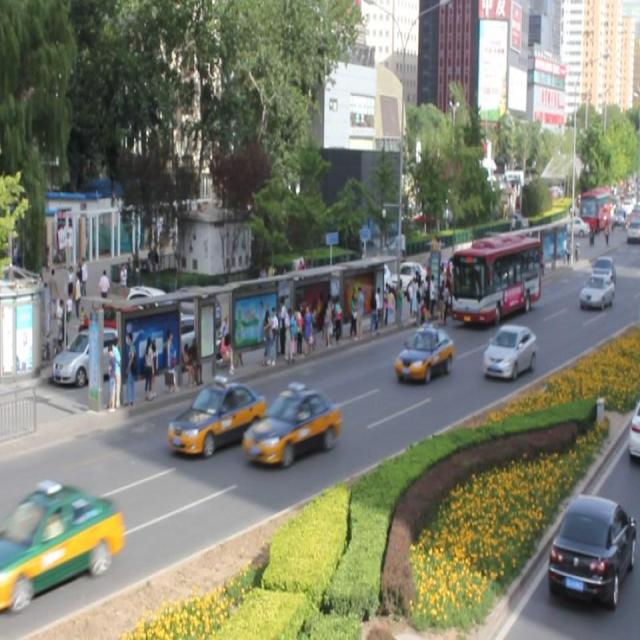car: (0, 480, 124, 596), (242, 386, 339, 468), (166, 378, 264, 453), (394, 324, 454, 381), (480, 321, 534, 378), (578, 273, 615, 308), (589, 256, 614, 282)
van: (447, 232, 538, 326)
